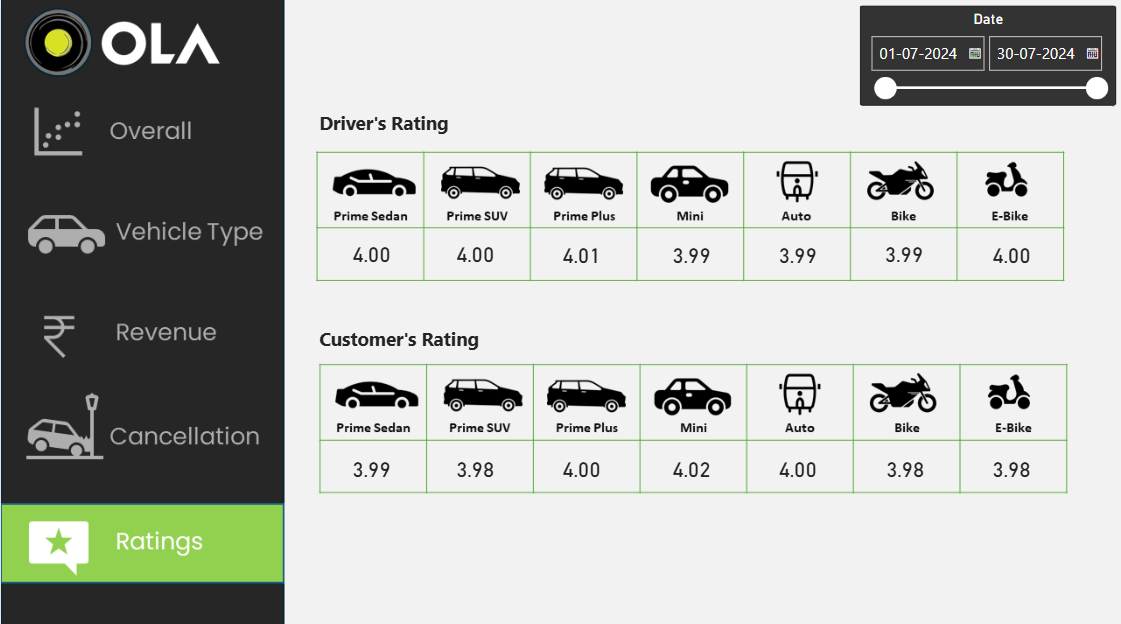

This screenshot's page, from the dashboard's own definition file:
{"tool":"powerbi","page":{"name":"Ratings","canvas":[1280,720],"ordinal":4},"visuals":[{"type":"actionButton","box":[0,224.4,324.5,90.5],"z":0},{"type":"actionButton","box":[0,341.4,324.5,90.5],"z":1000},{"type":"actionButton","box":[0,448.8,324.5,90.5],"z":2000},{"type":"actionButton","box":[0,109.8,324.5,90.5],"z":3000},{"type":"card","fields":{"Values":["Avg(Bookings.Driver_Ratings)"]},"box":[371.4,270,104.3,44.3],"z":3001},{"type":"card","fields":{"Values":["Avg(Bookings.Driver_Ratings)"]},"box":[490,270,104.3,44.3],"z":3002},{"type":"card","fields":{"Values":["Avg(Bookings.Driver_Ratings)"]},"box":[611.4,271.4,104.3,44.3],"z":3003},{"type":"card","fields":{"Values":["Avg(Bookings.Driver_Ratings)"]},"box":[737.1,267.1,104.3,54.3],"z":3004},{"type":"card","fields":{"Values":["Avg(Bookings.Driver_Ratings)"]},"box":[858.6,267.1,104.3,54.3],"z":3005},{"type":"card","fields":{"Values":["Avg(Bookings.Driver_Ratings)"]},"box":[980,262.9,104.3,60],"z":3006},{"type":"card","fields":{"Values":["Avg(Bookings.Driver_Ratings)"]},"box":[1102.9,264.3,104.3,60],"z":3007},{"type":"card","fields":{"Values":["Avg(Bookings.Customer_Rating)"]},"box":[371.4,515.7,104.3,44.3],"z":3008},{"type":"card","fields":{"Values":["Avg(Bookings.Customer_Rating)"]},"box":[490,515.7,104.3,44.3],"z":3009},{"type":"card","fields":{"Values":["Avg(Bookings.Customer_Rating)"]},"box":[611.4,511.4,104.3,54.3],"z":3010},{"type":"card","fields":{"Values":["Avg(Bookings.Customer_Rating)"]},"box":[737.1,511.4,104.3,54.3],"z":3011},{"type":"card","fields":{"Values":["Avg(Bookings.Customer_Rating)"]},"box":[858.6,505.7,104.3,64.3],"z":3012},{"type":"card","fields":{"Values":["Avg(Bookings.Customer_Rating)"]},"box":[981.4,505.7,104.3,64.3],"z":3013},{"type":"card","fields":{"Values":["Avg(Bookings.Customer_Rating)"]},"box":[1102.9,505.7,104.3,64.3],"z":3014},{"type":"textbox","box":[358.6,122.9,165.7,45.7],"z":3015},{"type":"textbox","box":[358.6,370,252.9,40],"z":3016},{"type":"slicer","title":"Date","fields":{"Values":["Bookings.Date"]},"box":[981.4,8.6,292.9,114.3],"z":3017}]}

Visuals, with their boxes on the page's 1280x720 design canvas (x1, y1, x2, y2). These are canvas units, not pixel positions in the 1121x624 screenshot, which may show the page scaled, cropped or inside an application window:
actionButton: {"x1": 0, "y1": 224, "x2": 324, "y2": 315}
actionButton: {"x1": 0, "y1": 341, "x2": 324, "y2": 432}
actionButton: {"x1": 0, "y1": 449, "x2": 324, "y2": 539}
actionButton: {"x1": 0, "y1": 110, "x2": 324, "y2": 200}
card - Avg(Bookings.Driver_Ratings): {"x1": 371, "y1": 270, "x2": 476, "y2": 314}
card - Avg(Bookings.Driver_Ratings): {"x1": 490, "y1": 270, "x2": 594, "y2": 314}
card - Avg(Bookings.Driver_Ratings): {"x1": 611, "y1": 271, "x2": 716, "y2": 316}
card - Avg(Bookings.Driver_Ratings): {"x1": 737, "y1": 267, "x2": 841, "y2": 321}
card - Avg(Bookings.Driver_Ratings): {"x1": 859, "y1": 267, "x2": 963, "y2": 321}
card - Avg(Bookings.Driver_Ratings): {"x1": 980, "y1": 263, "x2": 1084, "y2": 323}
card - Avg(Bookings.Driver_Ratings): {"x1": 1103, "y1": 264, "x2": 1207, "y2": 324}
card - Avg(Bookings.Customer_Rating): {"x1": 371, "y1": 516, "x2": 476, "y2": 560}
card - Avg(Bookings.Customer_Rating): {"x1": 490, "y1": 516, "x2": 594, "y2": 560}
card - Avg(Bookings.Customer_Rating): {"x1": 611, "y1": 511, "x2": 716, "y2": 566}
card - Avg(Bookings.Customer_Rating): {"x1": 737, "y1": 511, "x2": 841, "y2": 566}
card - Avg(Bookings.Customer_Rating): {"x1": 859, "y1": 506, "x2": 963, "y2": 570}
card - Avg(Bookings.Customer_Rating): {"x1": 981, "y1": 506, "x2": 1086, "y2": 570}
card - Avg(Bookings.Customer_Rating): {"x1": 1103, "y1": 506, "x2": 1207, "y2": 570}
textbox: {"x1": 359, "y1": 123, "x2": 524, "y2": 169}
textbox: {"x1": 359, "y1": 370, "x2": 612, "y2": 410}
"Date" slicer: {"x1": 981, "y1": 9, "x2": 1274, "y2": 123}
